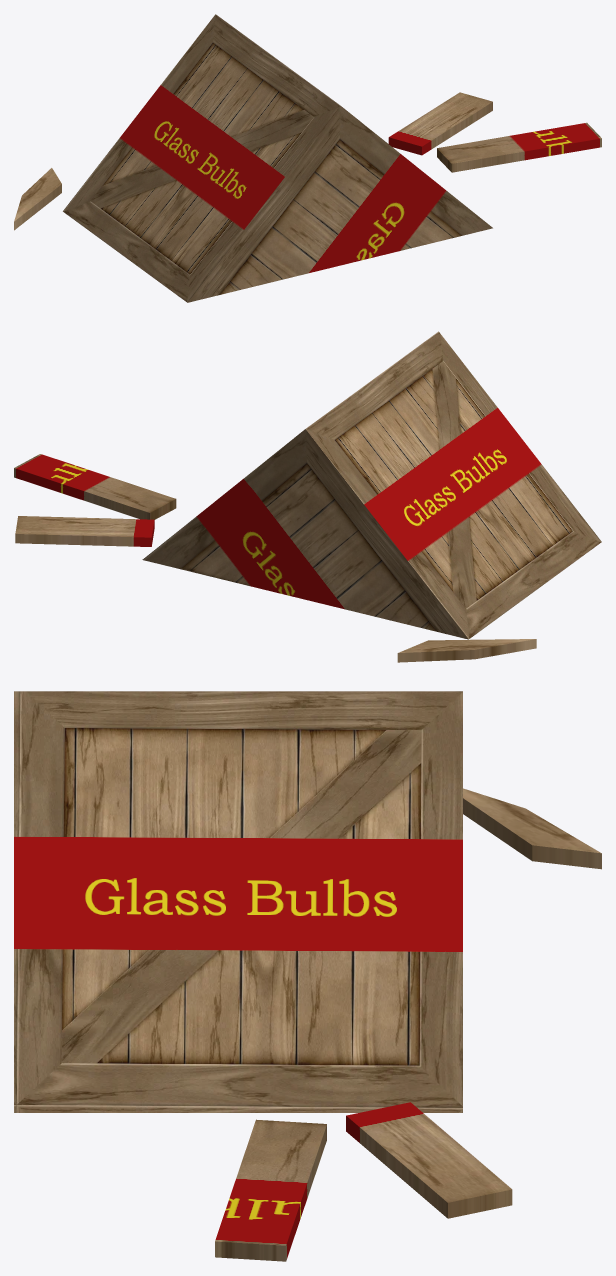
File: brokencrate.fbx
3 renders of one model, top to bottom at view 1: azimuth 30°, elevation 25°; view 2: azimuth 150°, elevation 25°; view 3: azimuth 270°, elevation 25°, orthographic. The views are drawn at different scales.
Parts seen in each view (by area): view 1: Cube, Cube.002, Cube.001, Cube.003; view 2: Cube, Cube.002, Cube.001, Cube.003; view 3: Cube, Cube.002, Cube.001, Cube.003.
Boxes of the visible parts, bbox=[...] form: Cube: bbox=[63, 14, 492, 302]; Cube.002: bbox=[437, 122, 601, 172]; Cube.001: bbox=[388, 92, 492, 155]; Cube.003: bbox=[14, 168, 61, 230]; Cube: bbox=[142, 331, 601, 639]; Cube.002: bbox=[14, 454, 176, 519]; Cube.001: bbox=[15, 516, 154, 546]; Cube.003: bbox=[397, 639, 536, 662]; Cube: bbox=[14, 691, 462, 1112]; Cube.002: bbox=[215, 1119, 326, 1261]; Cube.001: bbox=[346, 1102, 512, 1218]; Cube.003: bbox=[463, 788, 601, 869].
Size of the model in its own units: 491 by 141 by 262.
